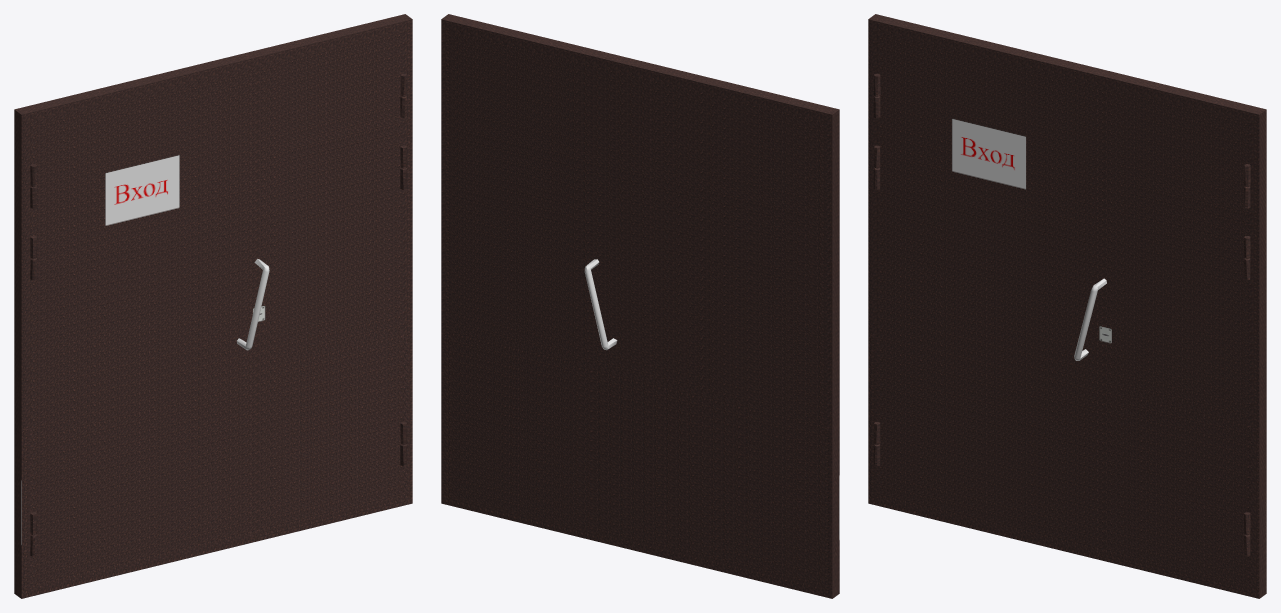
File: Door_vhod.fbx
The picture shows the model from 3 angles, left to right: view 1: azimuth 30°, elevation 25°; view 2: azimuth 150°, elevation 25°; view 3: azimuth 330°, elevation 25°; orthographic projection.
Parts seen in each view (by area): view 1: Door, Куб.001, Куб; view 2: Door, Куб.001, Куб; view 3: Door, Куб.001, Куб.
Part boxes in pixels (x1,y1,x2,y2): Door: [32, 60, 282, 587]; Куб.001: [282, 31, 402, 526]; Куб: [14, 14, 412, 598]; Door: [571, 60, 821, 587]; Куб.001: [451, 31, 571, 526]; Куб: [441, 14, 839, 598]; Door: [878, 31, 1128, 558]; Куб.001: [1129, 92, 1248, 587]; Куб: [868, 14, 1266, 598].
Bounding box in the file's own units: 186 × 220 × 23.94.
Materials: 4 (3 with a texture image).
